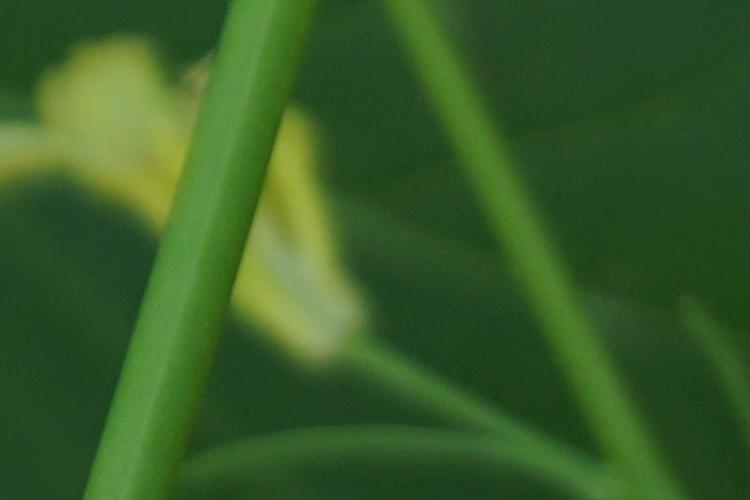yellow: (2, 7, 420, 370)
